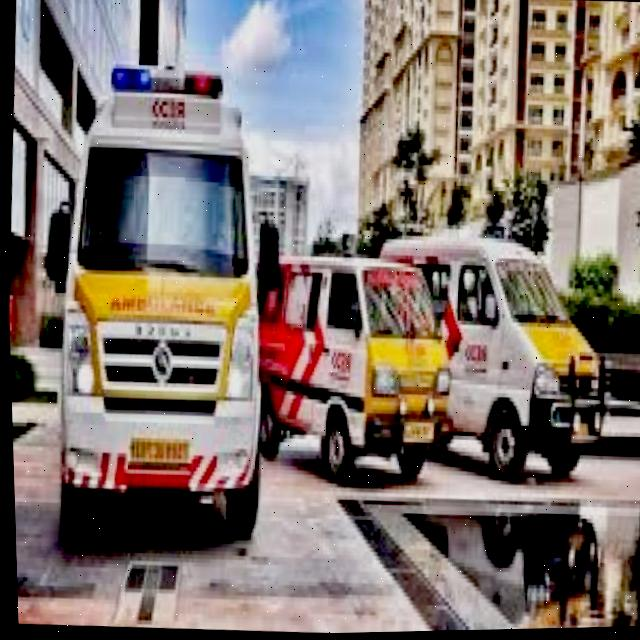emergency: (47, 60, 284, 551), (337, 239, 458, 489)
